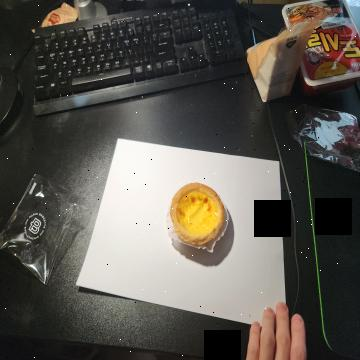EggTart: (169, 180, 225, 246)
